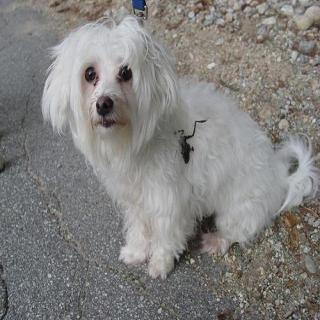dog: (36, 7, 176, 157)
nose: (93, 90, 117, 118)
